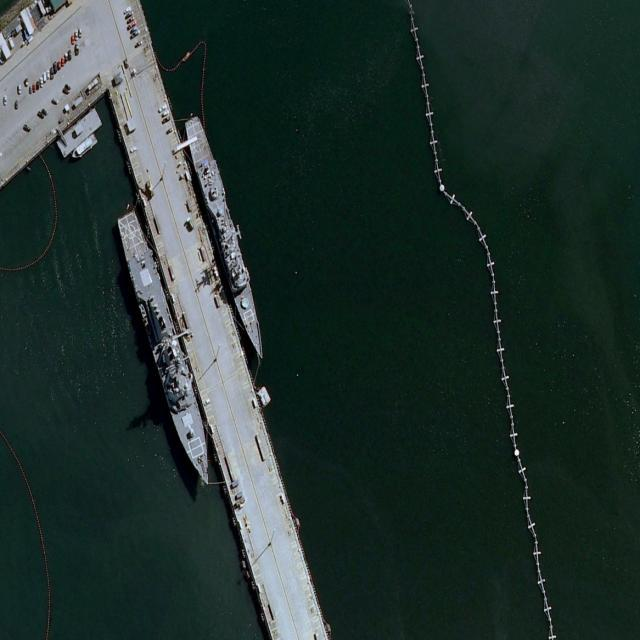Destroyer: (114, 207, 218, 493)
Frigate: (182, 112, 270, 368)
Other Ship: (70, 132, 99, 163)
